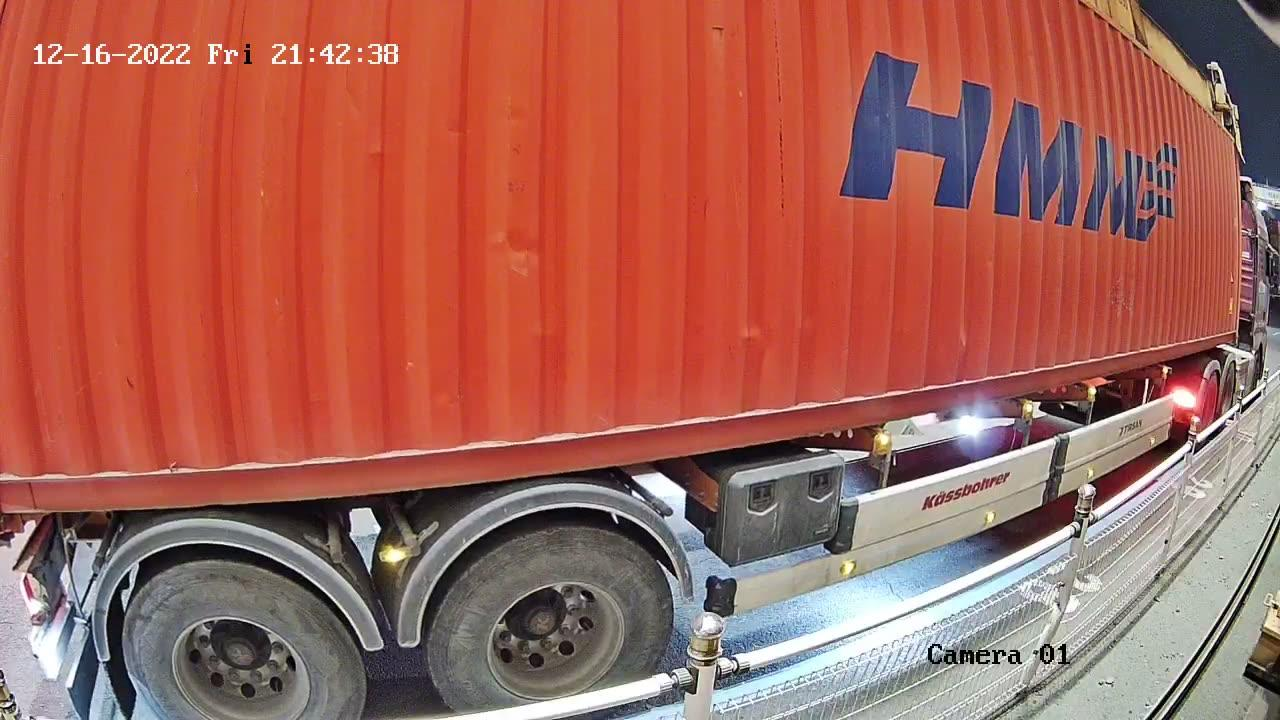Tire: (432, 524, 675, 713), (120, 562, 366, 719)
